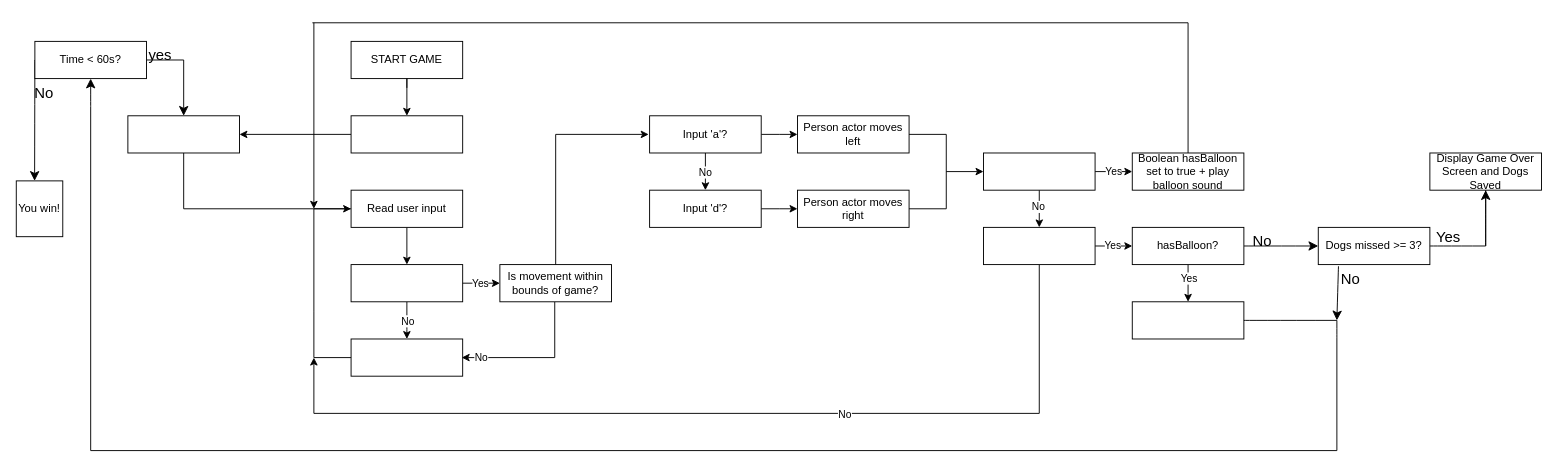
This 1558x468 diagram has some shape labels left out. Here are the shapes that lost their labels. From the top down, the box of each, then its label:
(127, 115, 239, 153): Populate dog populate balloon
(350, 115, 463, 153): Actors populate + control of person actor
(983, 152, 1095, 190): Collides With Balloon Actor?
(983, 226, 1095, 265): Collides with Dog Actor?
(350, 264, 463, 302): Input of A or D?
(1131, 301, 1244, 339): Dog Actor floats, dogsSavedCount +=1 and good dog sound
(350, 338, 463, 376): Do Nothing
